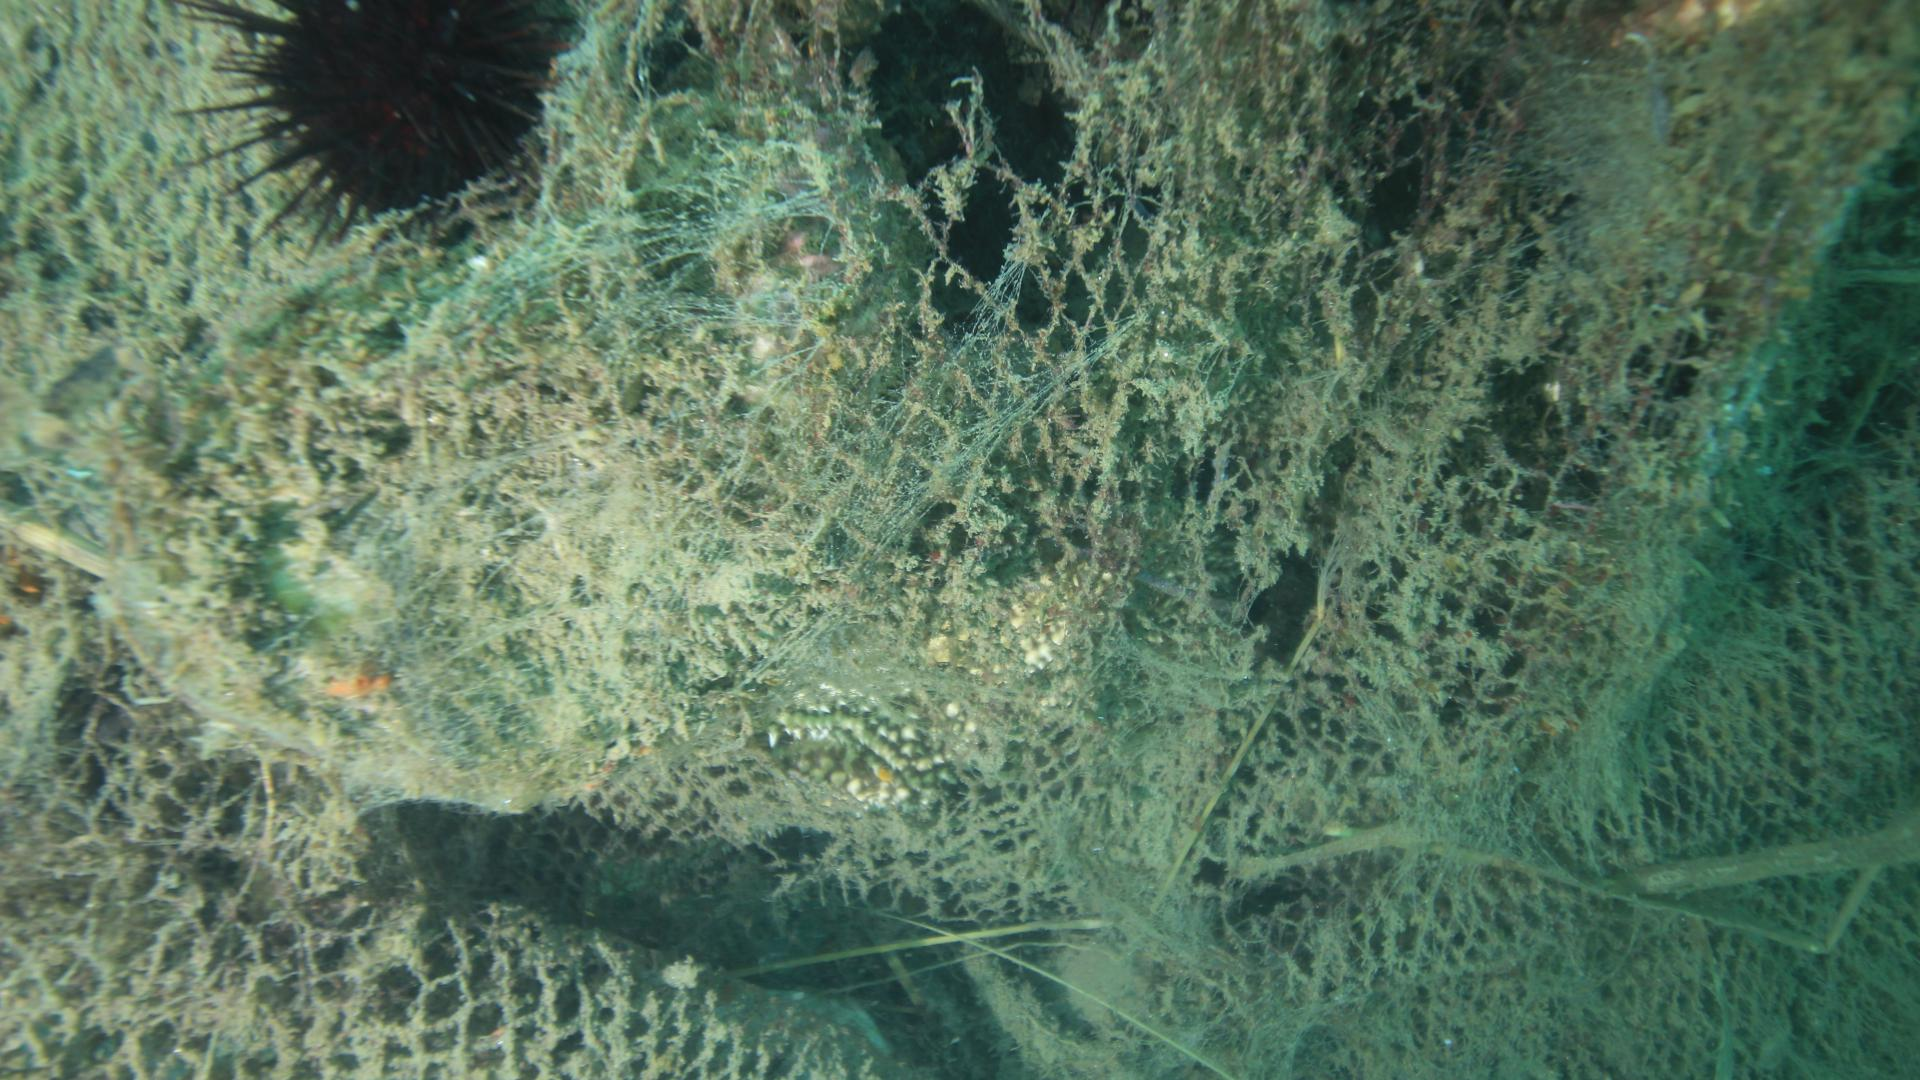fish net: (804, 208, 1920, 1080), (0, 712, 907, 1080)
